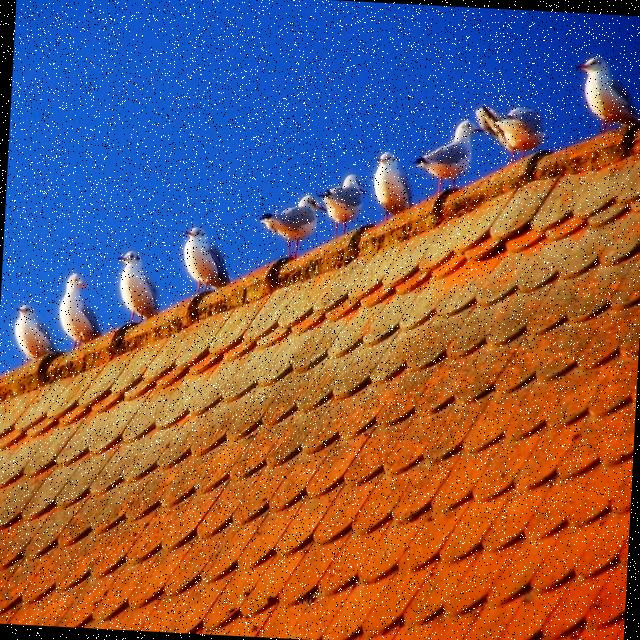bird: (0, 85, 640, 640), (411, 116, 484, 198), (572, 54, 640, 137), (256, 192, 324, 262), (472, 104, 548, 166), (180, 225, 236, 298), (113, 250, 163, 328), (57, 272, 105, 351), (318, 172, 368, 240), (371, 150, 415, 222), (12, 302, 60, 364)
